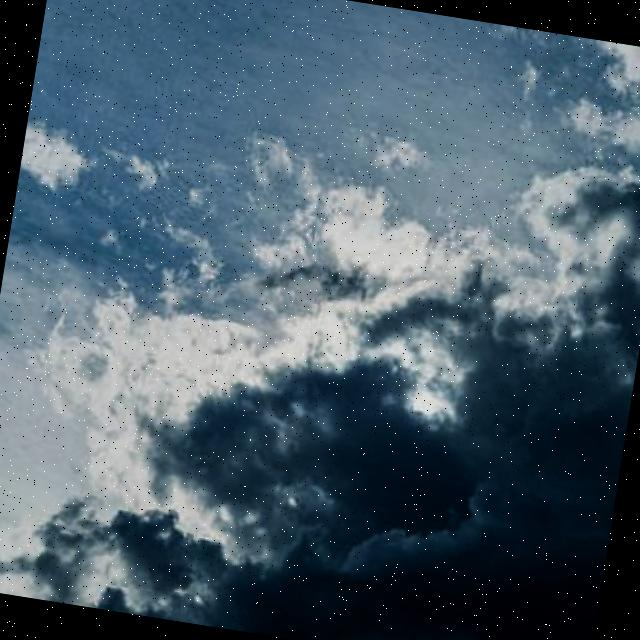Cc: (1, 78, 640, 624)
